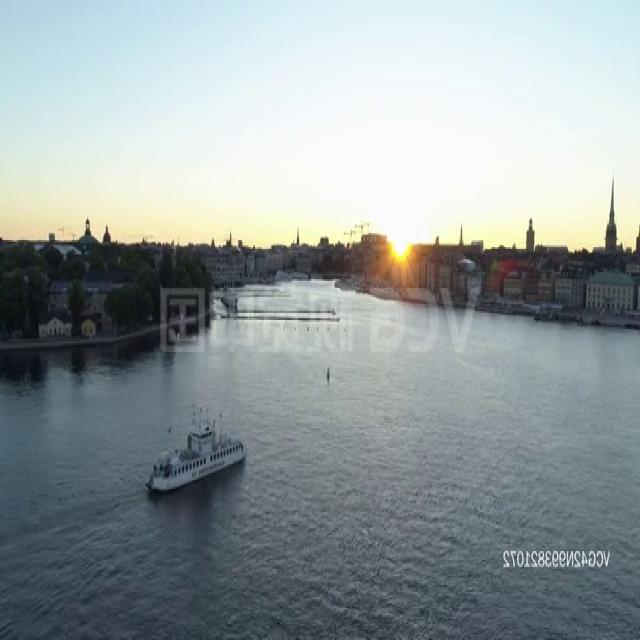passenger ship: (144, 398, 244, 504)
